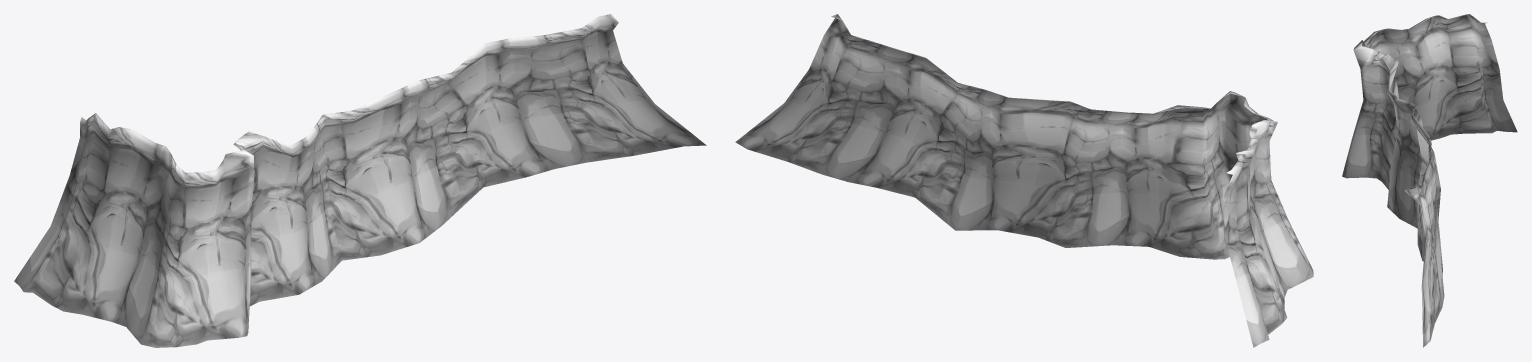
Rendered from FALAISE_BORD_LOW_02.fbx.
3 renders of one model, left to right at view 1: azimuth 30°, elevation 25°; view 2: azimuth 150°, elevation 25°; view 3: azimuth 270°, elevation 25°, orthographic. The views are drawn at different scales.
Visible parts, largest first — view 1: FALAISE_BORD_LOW_02; view 2: FALAISE_BORD_LOW_02; view 3: FALAISE_BORD_LOW_02.
Part boxes in pixels (left/top/right/bottom): FALAISE_BORD_LOW_02: left=14, top=14, right=706, bottom=347; FALAISE_BORD_LOW_02: left=735, top=14, right=1313, bottom=347; FALAISE_BORD_LOW_02: left=1342, top=14, right=1517, bottom=347.
Size of the model in its own units: 14651 by 4105 by 4575.
1 material, 1 textured.
